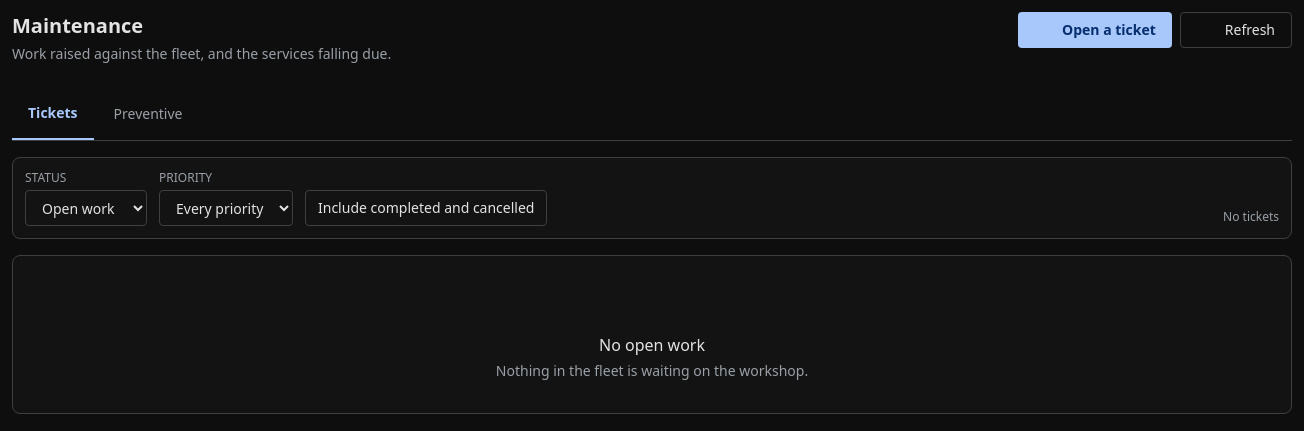
Test: the maintenance queue › leaves due-ness to the server rather than recomputing it
Click the tab "Preventive" at (148, 114), box [98, 88, 198, 140]
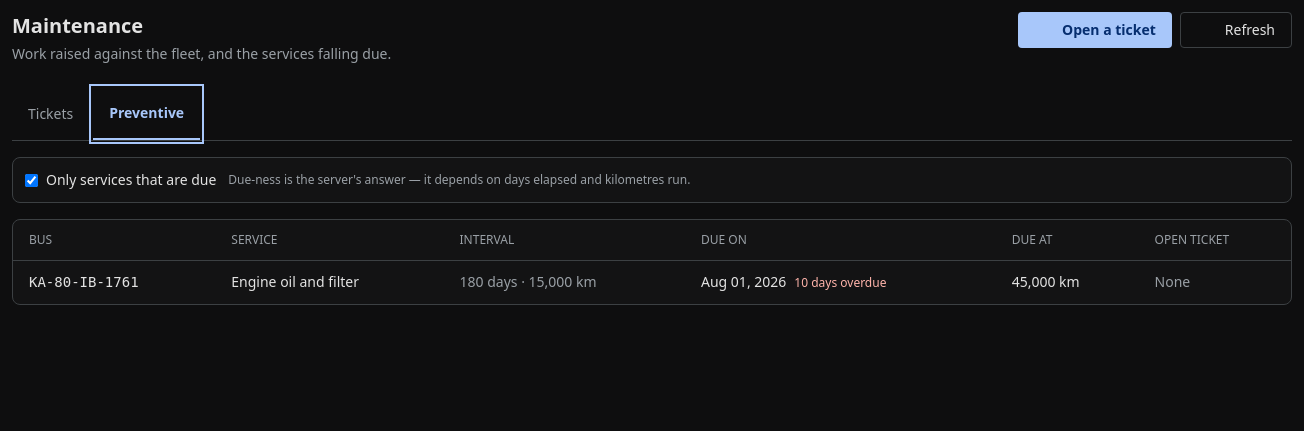
expect the text "Engine oil and filter" is shown: met, box [215, 260, 444, 304]
expect the text "45,000 km" is shown: met, box [996, 260, 1139, 304]
